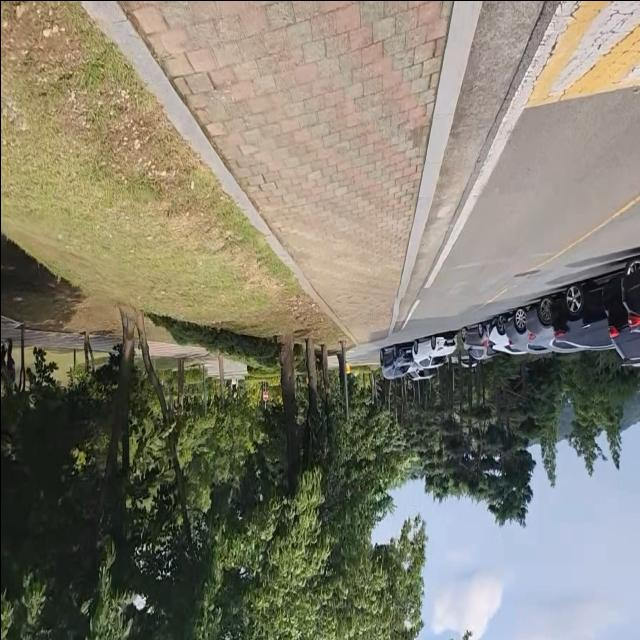obstacle: (457, 243, 640, 374), (376, 326, 458, 382)
road: (392, 0, 640, 344)
sidewalk: (83, 0, 478, 344)
